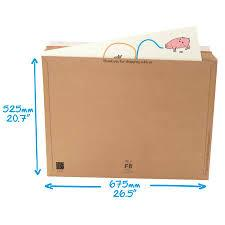Cardboard: (23, 16, 221, 201)
